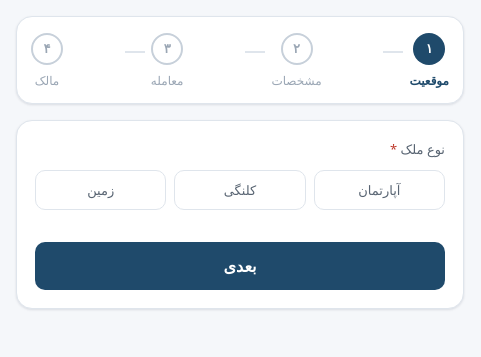
Scenario: AddFileScreen wizard › shows error when Next clicked without selecting type
What coordinates should you click on to do the following:
click the button "بعدی"
I would click on:
 (240, 266)
Its box is [35, 242, 445, 290].
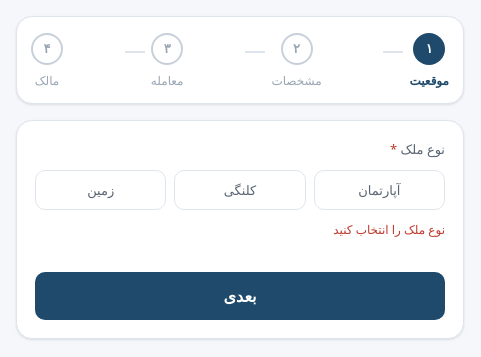
Result: the text "نوع ملک را انتخاب کنید" is shown at [333, 221, 445, 238]
